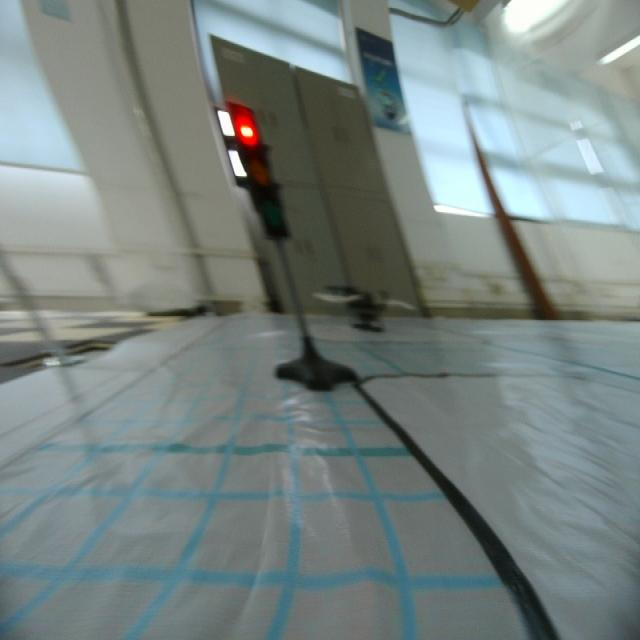red: (221, 96, 291, 251)
